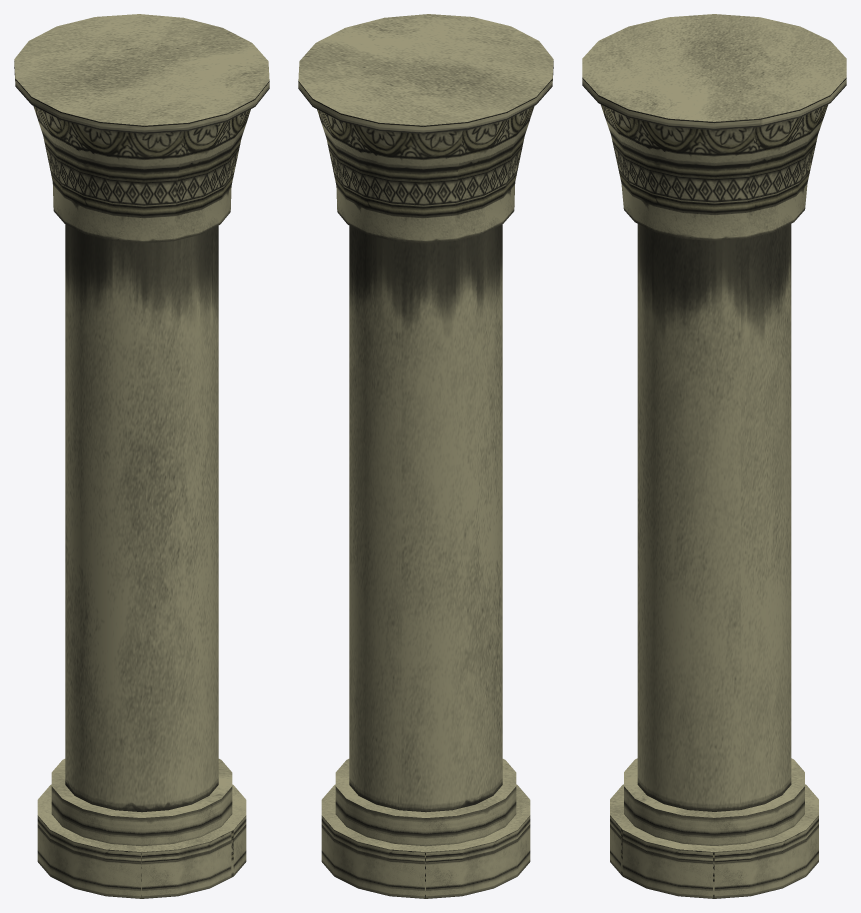
Rendered from PillarsCylinder.FBX.
3 views of the same model, side by side, from view 1: azimuth 30°, elevation 25°; view 2: azimuth 150°, elevation 25°; view 3: azimuth 270°, elevation 25° (orthographic).
Parts seen in each view (by area): view 1: Cylinder009; view 2: Cylinder009; view 3: Cylinder009.
Boxes of the visible parts, x1,y1,x2,y2 form: Cylinder009: (14, 14, 269, 898); Cylinder009: (298, 14, 553, 898); Cylinder009: (582, 14, 846, 898).
Size of the model in its own units: 25.67 by 87.18 by 26.55.
